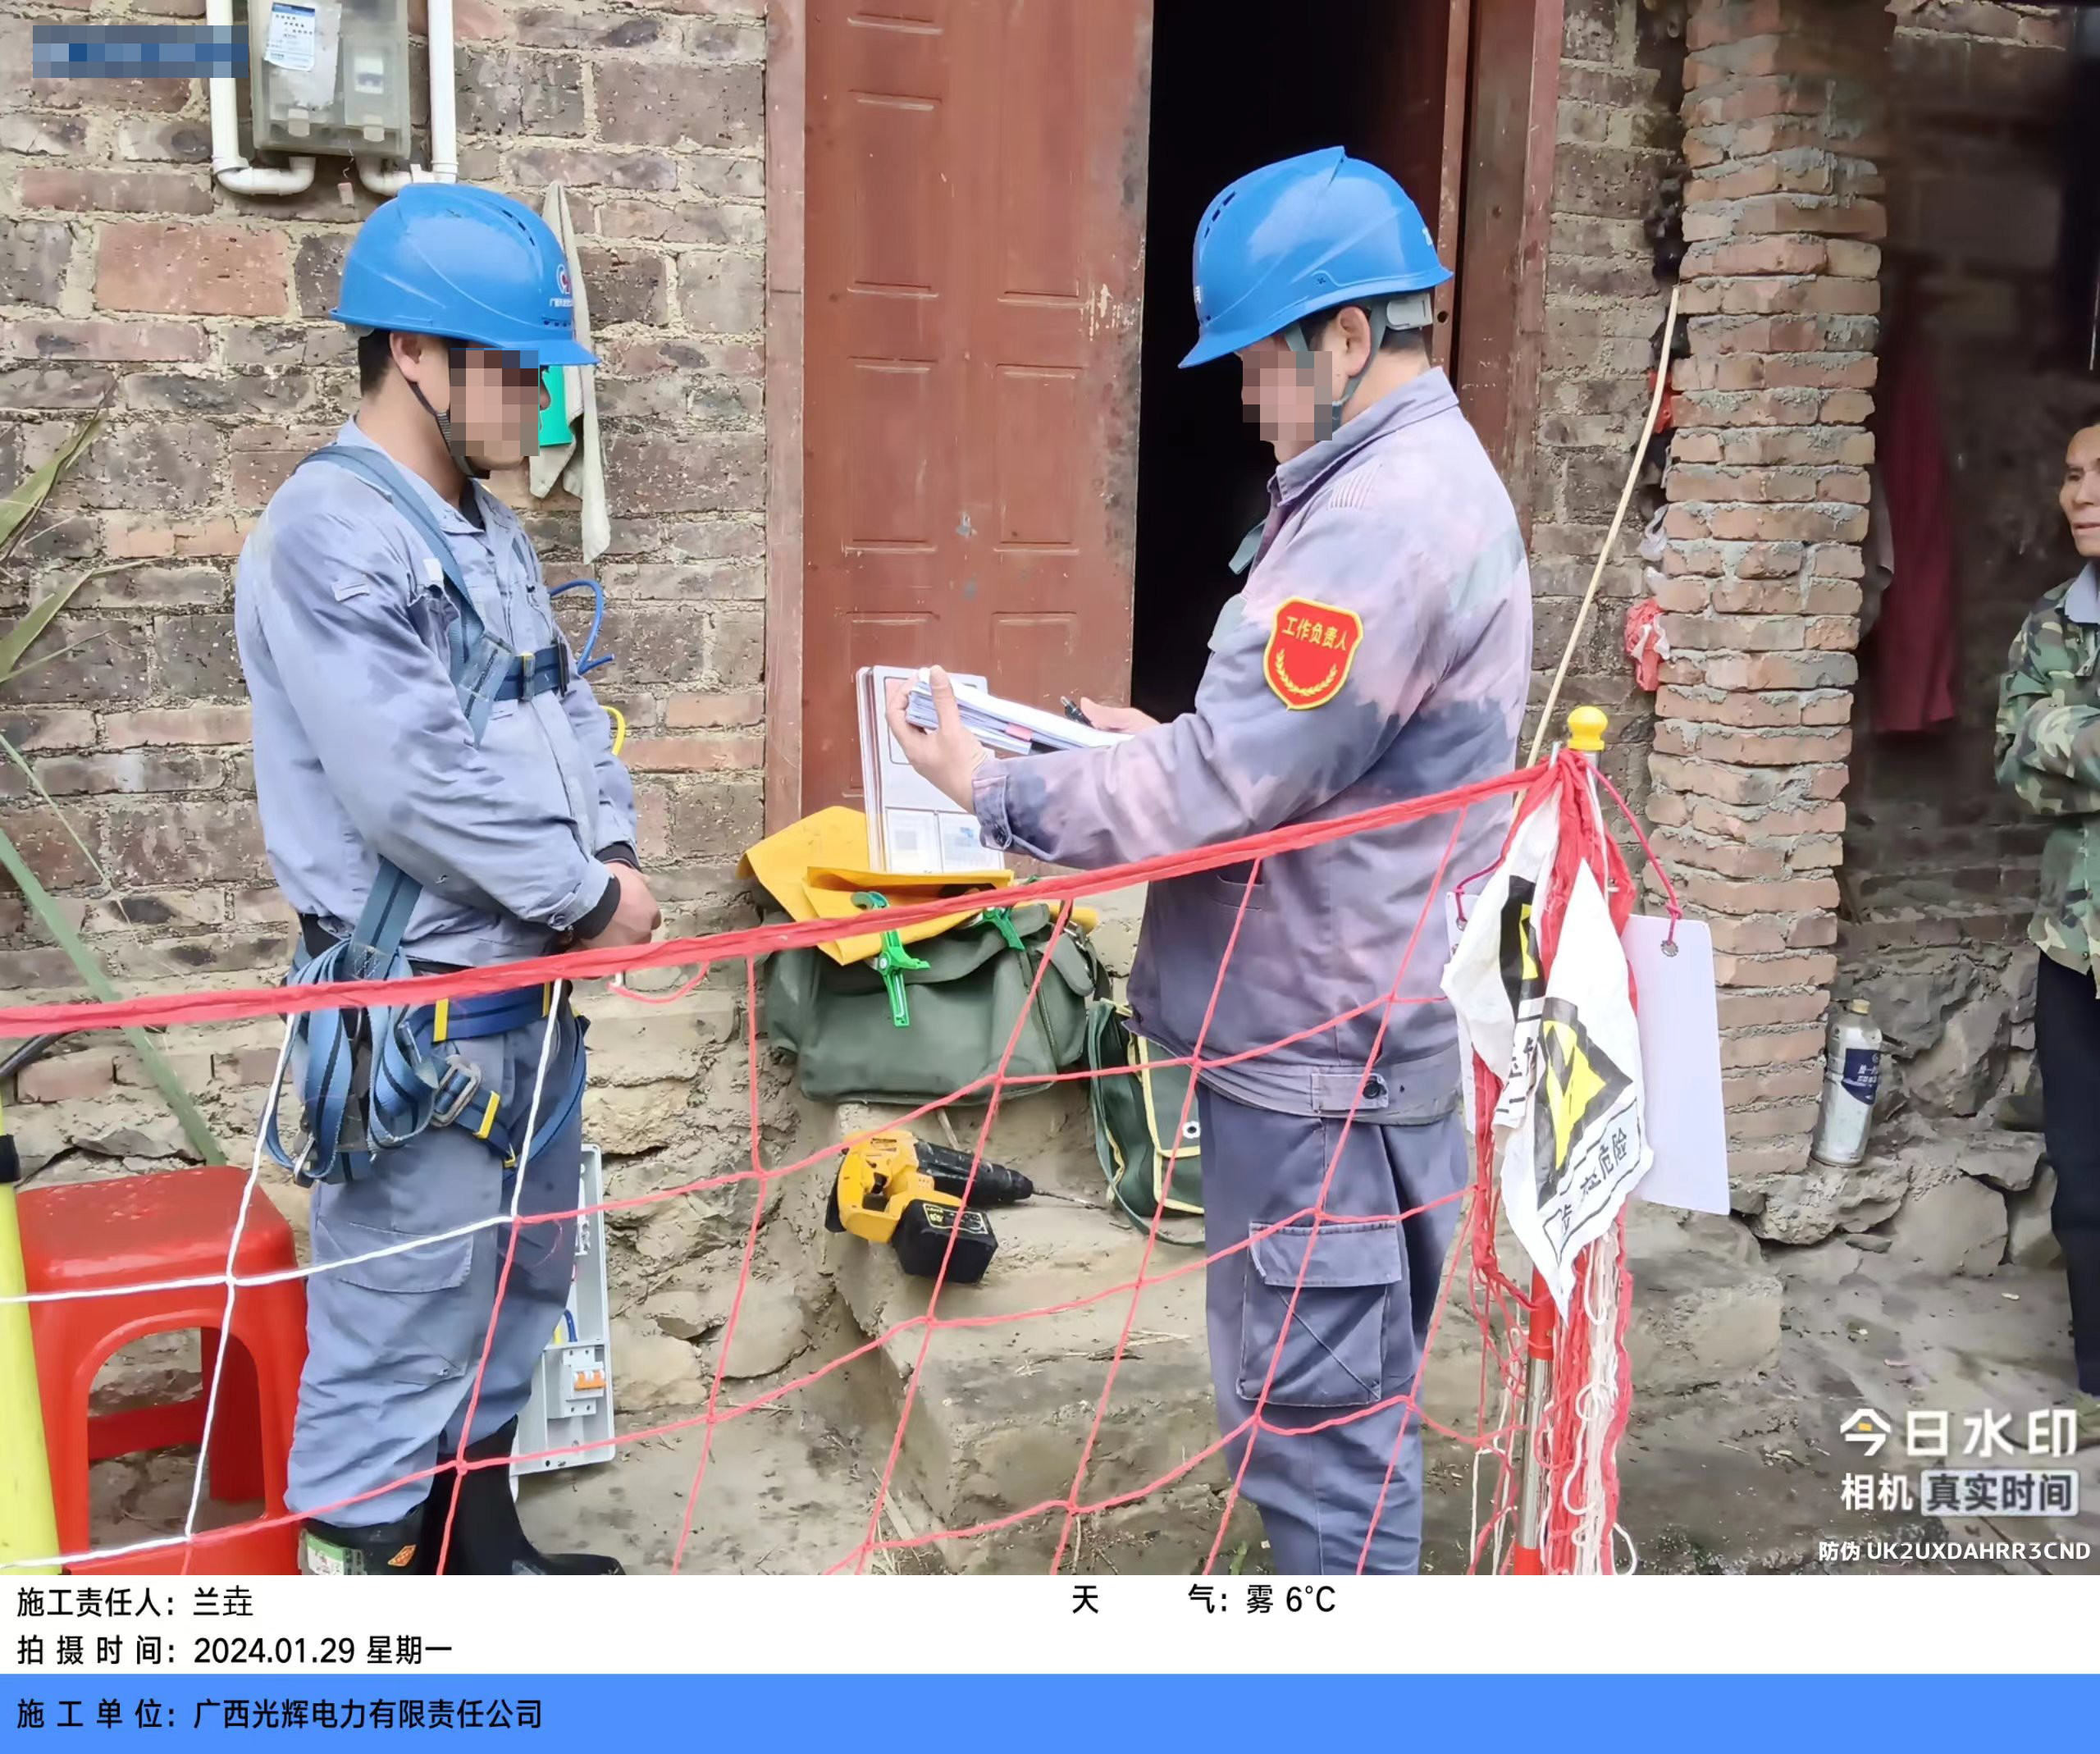downcloth: (2000, 953, 2099, 1384)
downsuit: (279, 993, 596, 1556), (1187, 1079, 1476, 1570)
halt: (1176, 148, 1459, 443), (323, 178, 604, 473), (830, 1128, 970, 1267)
hand: (886, 669, 989, 809), (583, 852, 661, 955)
inear: (1289, 305, 1390, 420), (379, 324, 473, 434)
person: (883, 144, 1547, 1609), (219, 171, 655, 1587), (2000, 381, 2100, 1384)
safebelt: (266, 426, 630, 1202)
sleeve: (1258, 596, 1366, 719)
unhalt: (2029, 415, 2099, 564)
upcloth: (1996, 565, 2099, 963)
upsuit: (1171, 354, 1536, 1071), (226, 422, 641, 960)
